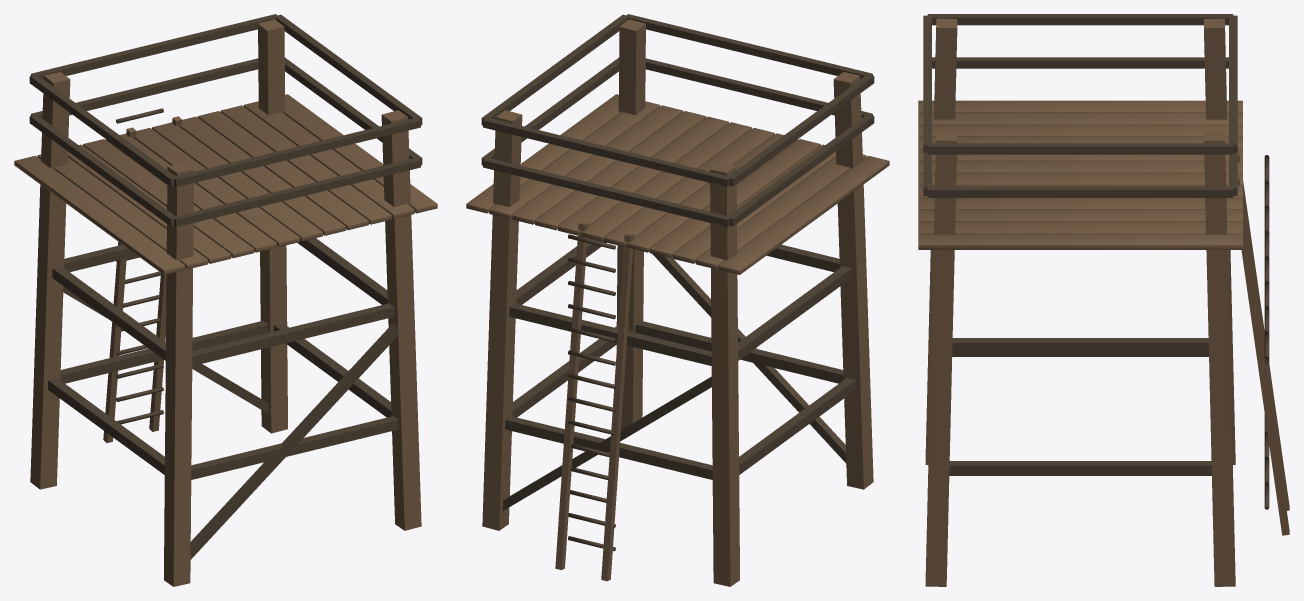
The model's file is lookout.glb.
3 renders of one model, left to right at view 1: azimuth 30°, elevation 25°; view 2: azimuth 150°, elevation 25°; view 3: azimuth 270°, elevation 25°, orthographic. The views are drawn at different scales.
Parts seen in each view (by area): view 1: leg.004, leg.006, leg.005, leg.007, plank, diag, rail.004, plank.008, plank.009, plank.006, plank.007, rail (+24 smaller); view 2: leg.005, leg.007, leg.004, leg.006, plank, stile, stile.001, plank.008, plank.009, plank.006, plank.007, handrail.003 (+24 smaller); view 3: leg.006, leg.007, plank.011, rail.005, rail.001, plank.002, plank.001, plank.009, plank.010, handrail.001, handrail, plank.005 (+15 smaller).
Part boxes in pixels (bbox=[...]): leg.004: bbox=[164, 163, 193, 586]; leg.006: bbox=[381, 110, 421, 530]; leg.005: bbox=[30, 72, 70, 489]; leg.007: bbox=[258, 19, 287, 433]; plank: bbox=[14, 155, 185, 274]; diag: bbox=[190, 323, 397, 559]; rail.004: bbox=[192, 303, 394, 365]; plank.008: bbox=[197, 111, 368, 230]; plank.009: bbox=[220, 105, 391, 224]; plank.006: bbox=[152, 122, 322, 241]; plank.007: bbox=[179, 116, 345, 235]; rail: bbox=[191, 416, 398, 479]; leg.005: bbox=[710, 163, 739, 586]; leg.007: bbox=[482, 110, 522, 530]; leg.004: bbox=[833, 72, 873, 489]; leg.006: bbox=[616, 19, 645, 429]; plank: bbox=[718, 155, 889, 274]; stile: bbox=[601, 233, 634, 581]; stile.001: bbox=[555, 221, 588, 569]; plank.008: bbox=[535, 111, 706, 230]; plank.009: bbox=[512, 105, 683, 224]; plank.006: bbox=[581, 122, 751, 241]; plank.007: bbox=[558, 116, 728, 235]; handrail.003: bbox=[483, 117, 731, 186]; leg.006: bbox=[925, 132, 957, 586]; leg.007: bbox=[1204, 132, 1235, 586]; plank.011: bbox=[918, 233, 1242, 249]; rail.005: bbox=[952, 338, 1208, 353]; rail.001: bbox=[949, 461, 1211, 475]; plank.002: bbox=[918, 124, 1242, 136]; plank.001: bbox=[918, 112, 1242, 124]; plank.009: bbox=[918, 209, 1242, 221]; plank.010: bbox=[918, 221, 1242, 233]; handrail.001: bbox=[927, 143, 1233, 154]; handrail: bbox=[927, 186, 1233, 197]; plank.005: bbox=[918, 161, 1242, 173].
Size of the model in its own units: 3.58 by 5.11 by 3.89.
